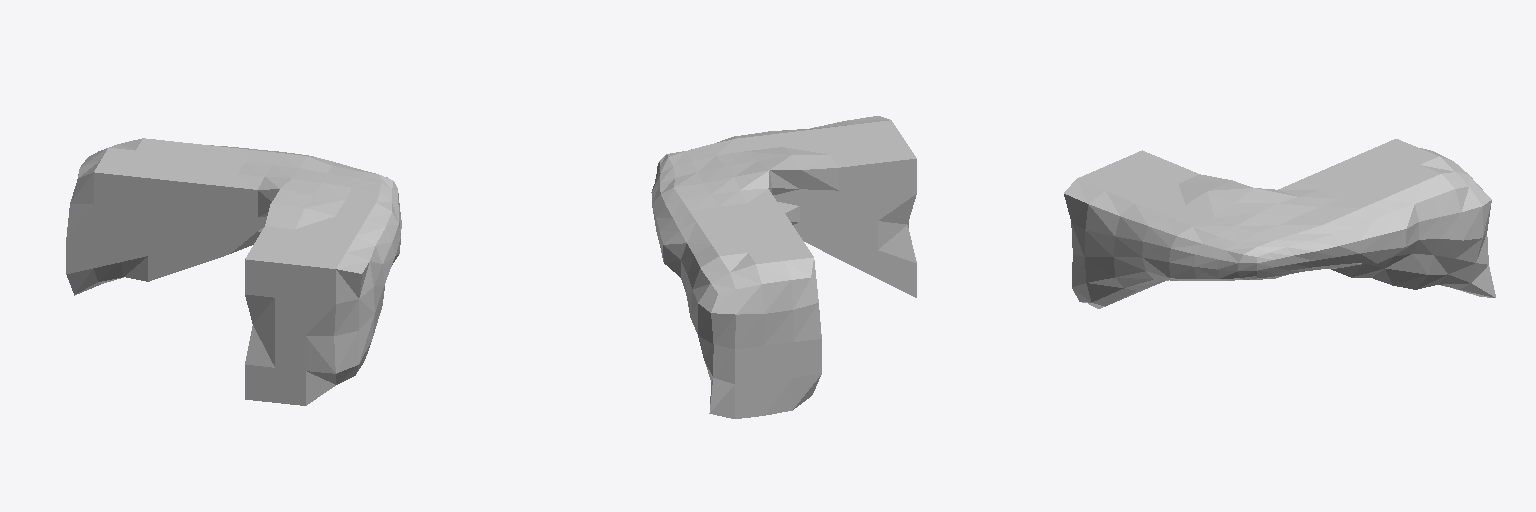
Rendered from env_level1_Canyon_Rock09.obj.
The picture shows the model from 3 angles: view 1: azimuth 30°, elevation 25°; view 2: azimuth 150°, elevation 25°; view 3: azimuth 270°, elevation 25°; orthographic projection.
Parts seen in each view (by area): view 1: pCube137; view 2: pCube137; view 3: pCube137.
Boxes of the visible parts, x1=… form: pCube137: x1=66, y1=138, x2=401, y2=405; pCube137: x1=651, y1=116, x2=916, y2=418; pCube137: x1=1064, y1=139, x2=1495, y2=308.
Bounding box in the file's own units: 1279 × 739 × 1967.